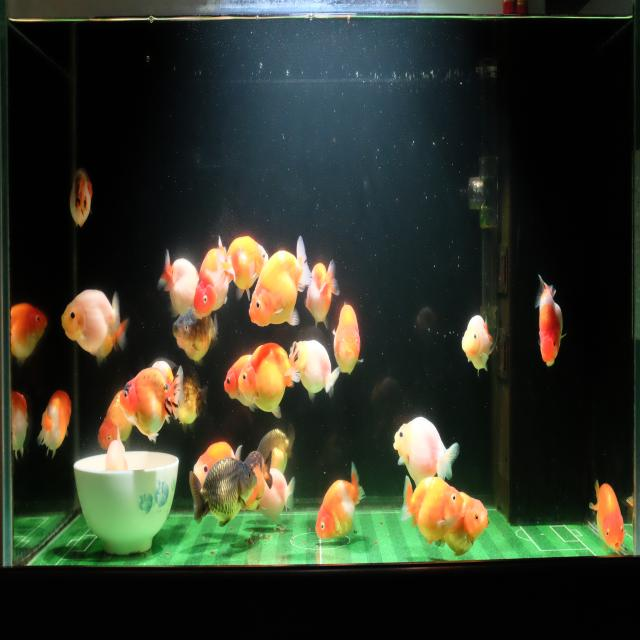Goldfish: (248, 234, 314, 329), (118, 363, 186, 445), (398, 472, 466, 551), (392, 413, 461, 488), (237, 340, 301, 420), (56, 281, 121, 357), (186, 458, 257, 526), (314, 460, 368, 545), (434, 488, 490, 560), (191, 234, 236, 323), (287, 336, 341, 404), (533, 270, 568, 374), (586, 477, 627, 556), (156, 245, 200, 317), (303, 256, 341, 334), (33, 387, 73, 461), (172, 307, 221, 367), (191, 438, 245, 491), (227, 235, 270, 301), (331, 300, 366, 380), (11, 299, 48, 369), (97, 384, 133, 452), (461, 313, 494, 383), (89, 312, 130, 368), (256, 422, 300, 472), (260, 470, 297, 529), (65, 162, 95, 233), (240, 450, 274, 512), (178, 366, 207, 436), (222, 353, 256, 412), (105, 432, 134, 484), (10, 384, 29, 463)
